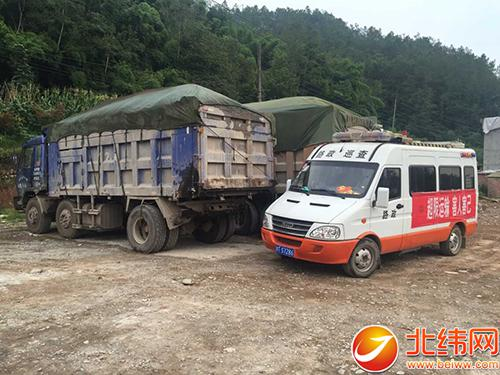chaozhai: (13, 79, 275, 258)
